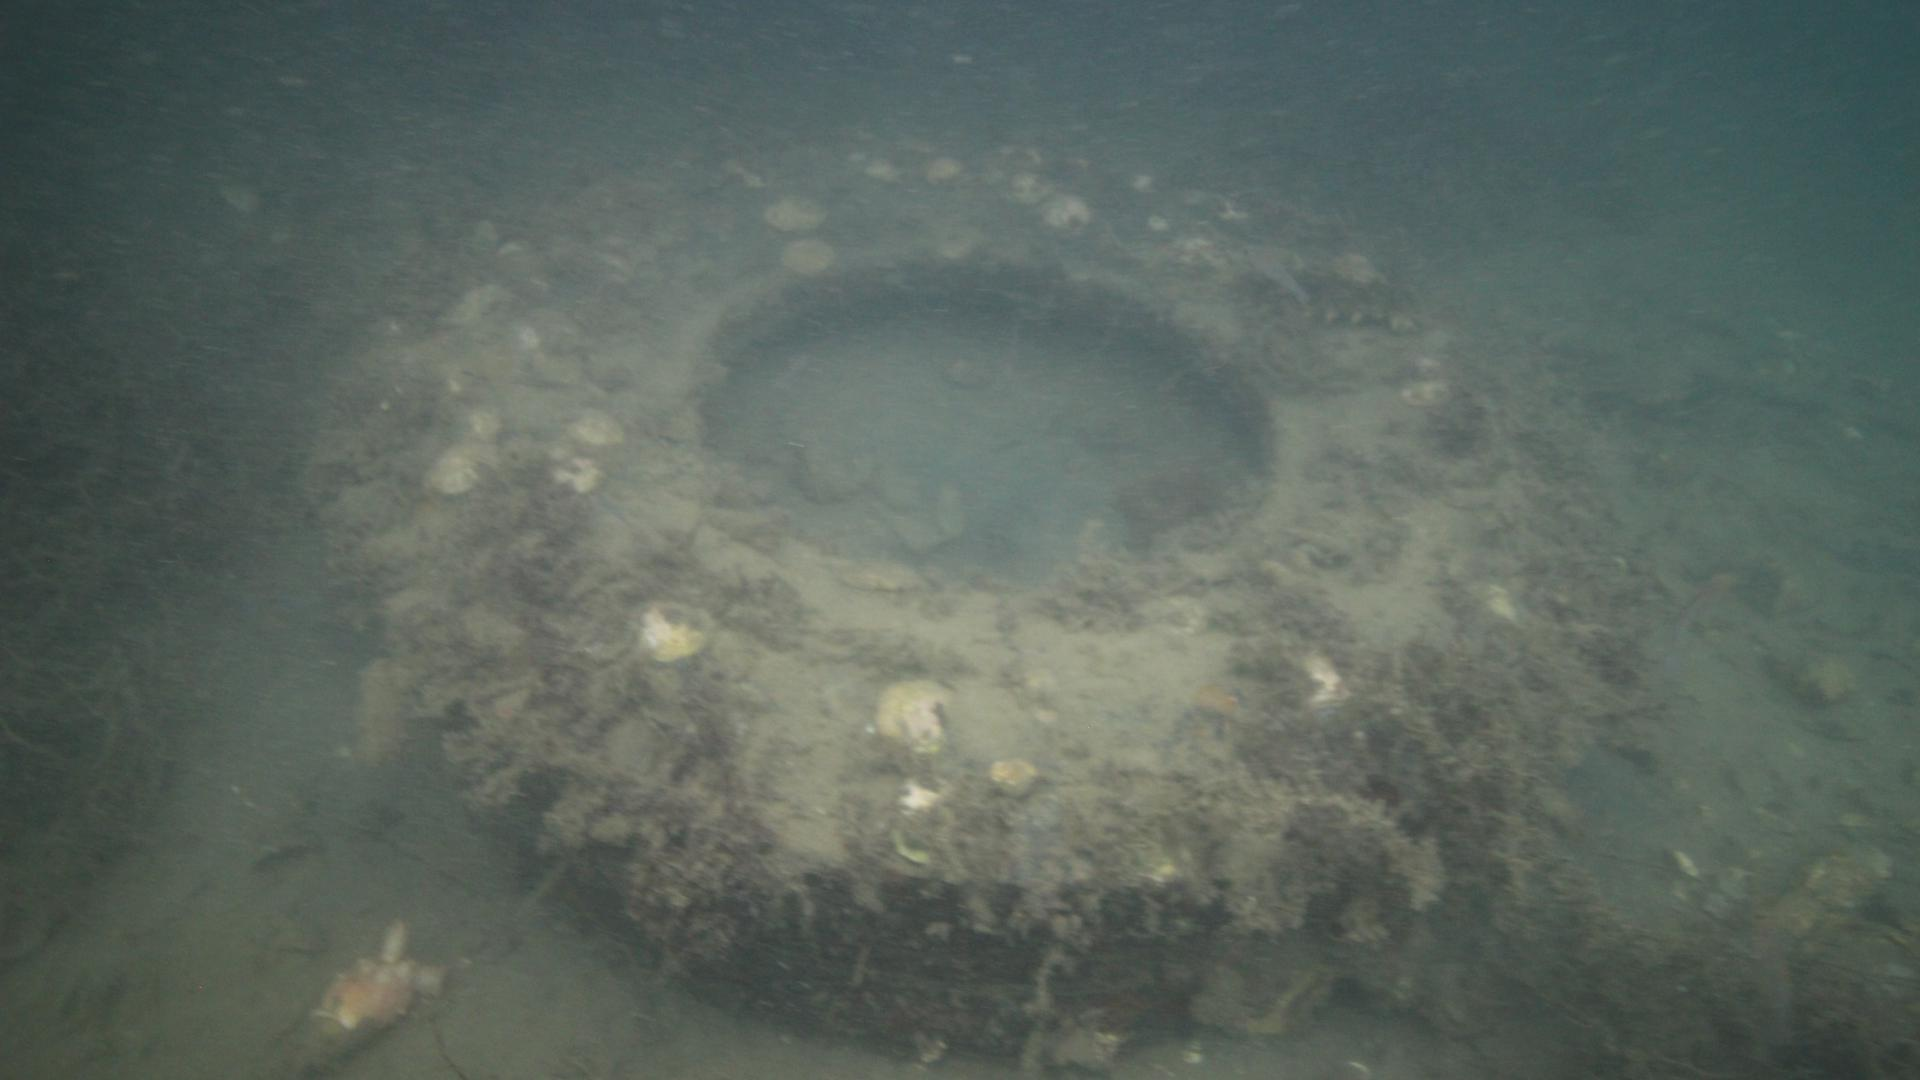tire: (332, 133, 1560, 1072)
